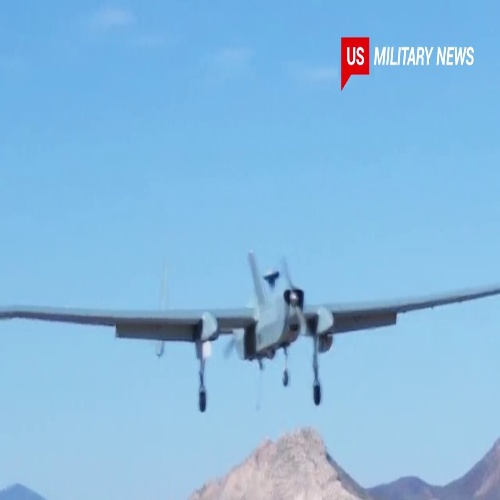uav384: (1, 252, 500, 409)
